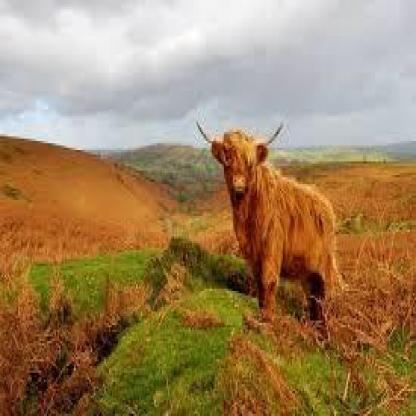cow: (196, 116, 335, 323)
